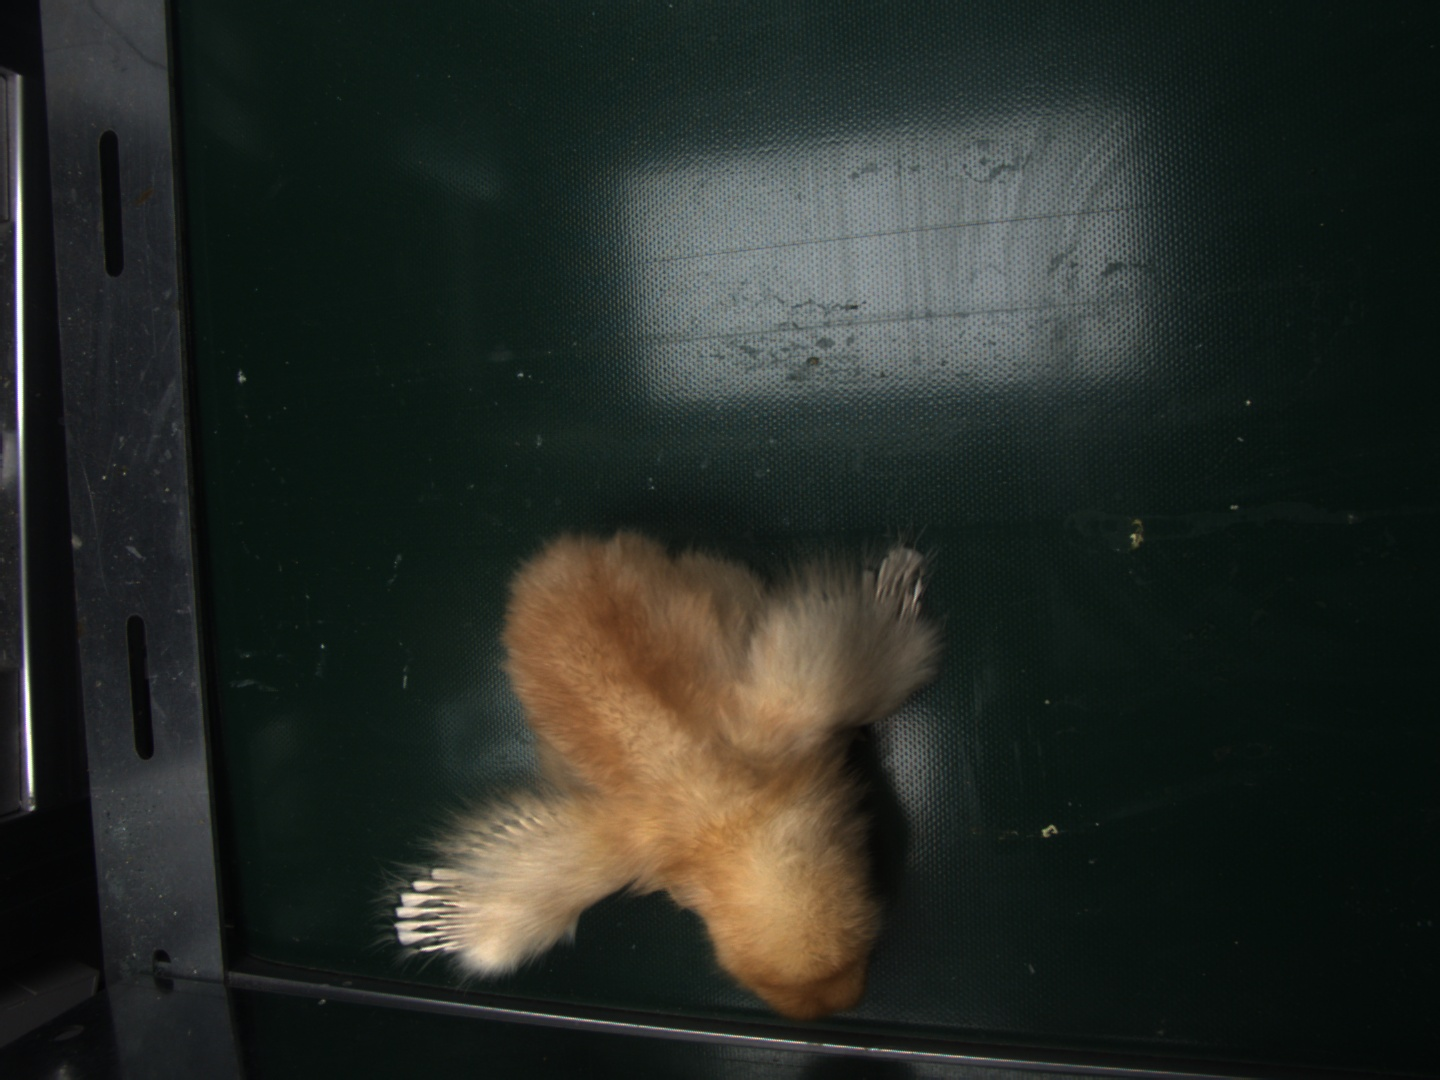female: (393, 874, 486, 953)
